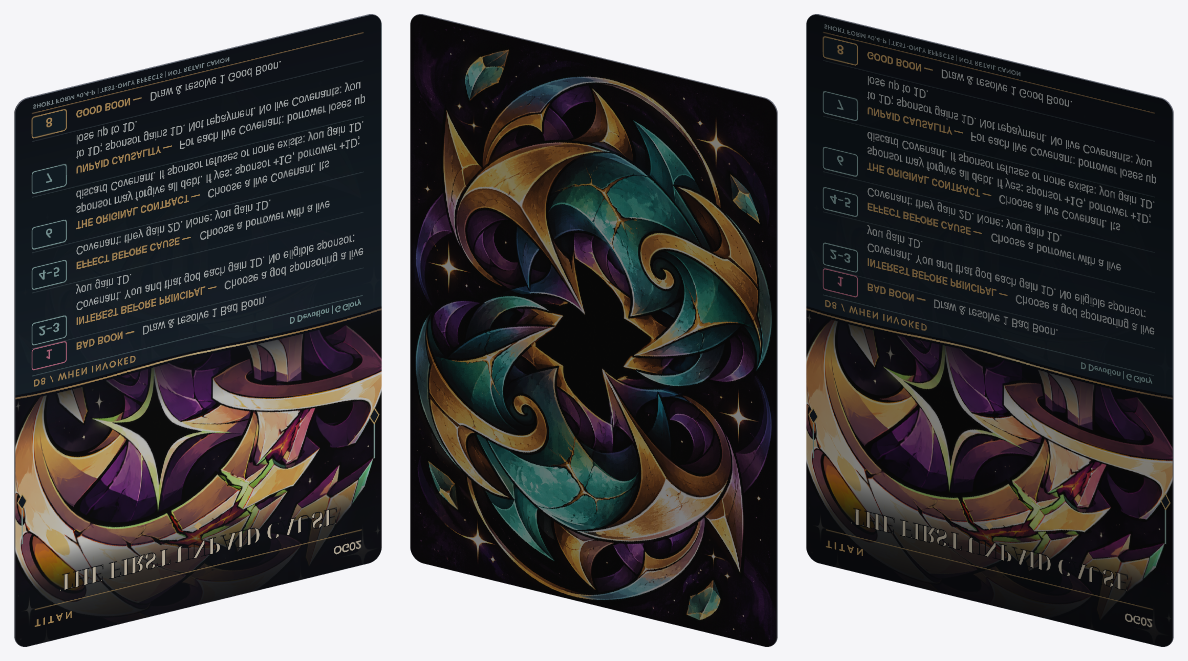
Rendered from SGLD_OG02_The_First_Unpaid_Cause_3D_Card_v0.1-P_UNAPPROVED.glb.
3 views of the same model, side by side, from view 1: azimuth 30°, elevation 25°; view 2: azimuth 150°, elevation 25°; view 3: azimuth 330°, elevation 25° (orthographic).
Parts seen in each view (by area): view 1: OG02_FRONT, OG02_EDGE; view 2: OG02_BACK, OG02_EDGE; view 3: OG02_FRONT, OG02_EDGE.
Part boxes in pixels (left/top/right/bottom): OG02_FRONT: left=15, top=15, right=381, bottom=646; OG02_EDGE: left=14, top=14, right=381, bottom=646; OG02_BACK: left=410, top=15, right=776, bottom=646; OG02_EDGE: left=410, top=14, right=777, bottom=646; OG02_FRONT: left=806, top=15, right=1172, bottom=646; OG02_EDGE: left=806, top=14, right=1173, bottom=646.
Bounding box in the file's own units: 0.0889 × 0.127 × 0.00035.
3 materials, 2 textured.
